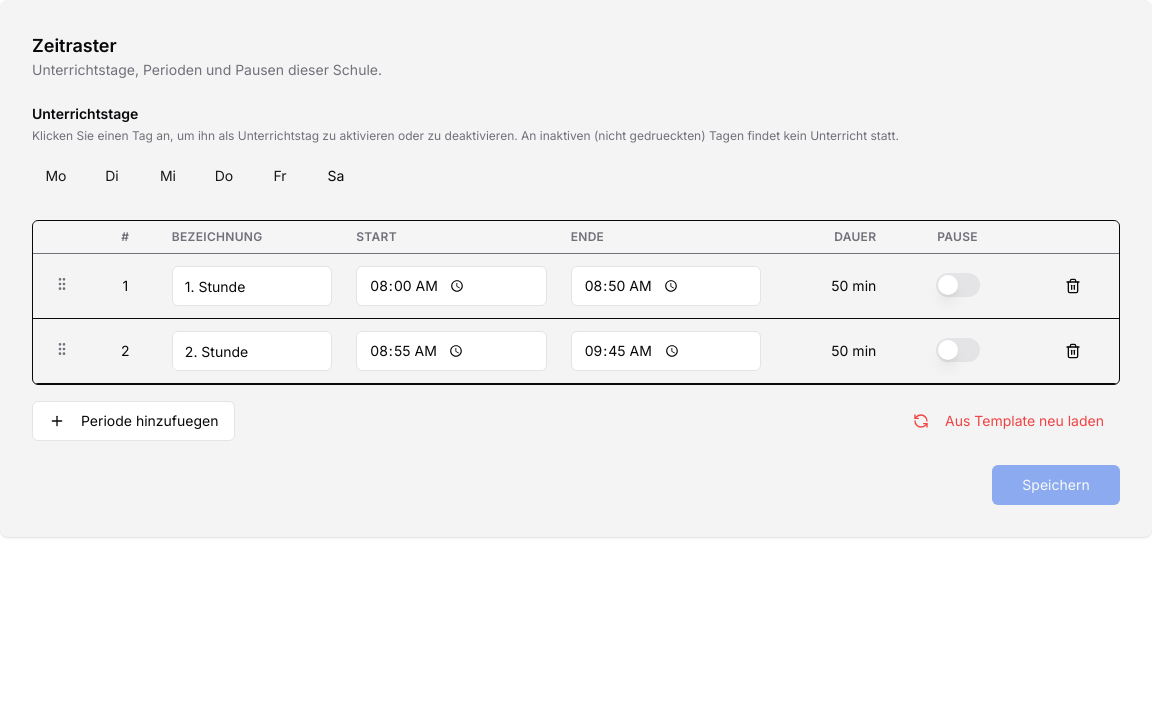
Test: TimeGridTab (Plan 10-04 Task 2) › "Aus Template neu laden" opens TemplateReloadDialog with schoolType
Click the button "Aus Template neu laden": (1009, 421) [897,401,1120,441]
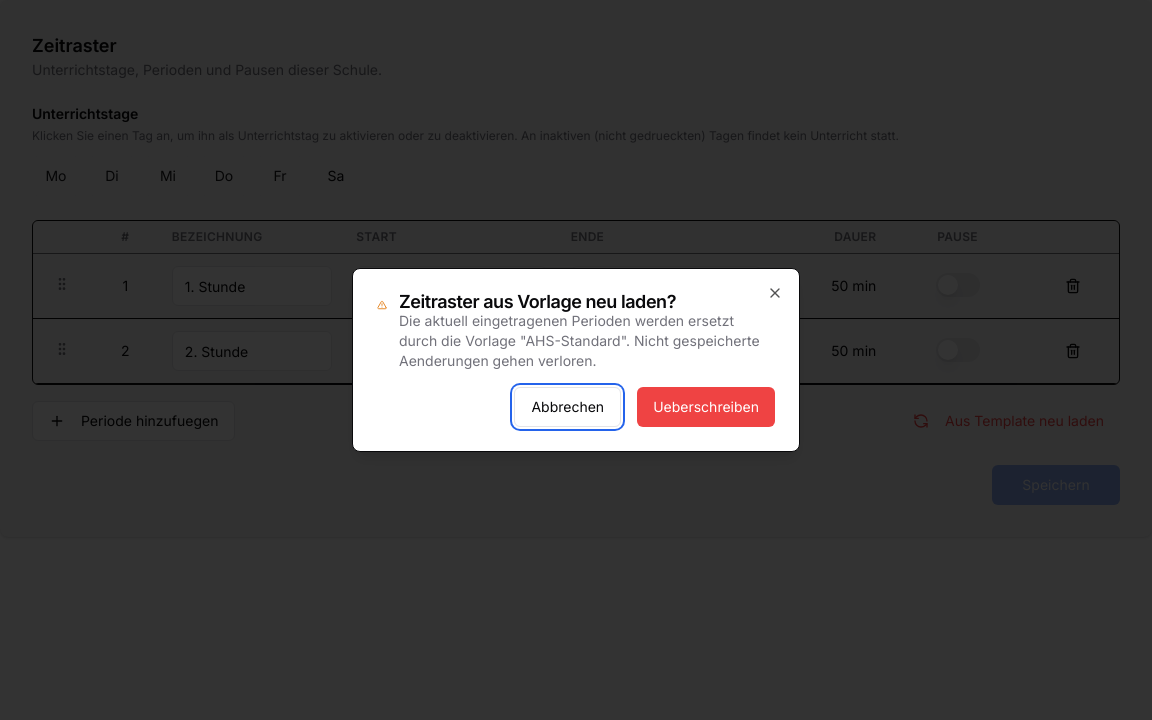
Result: the heading "Zeitraster aus Vorlage neu laden?" is shown at [399,291,676,312]
Result: the text "AHS-Standard" is shown at [399,311,775,371]
